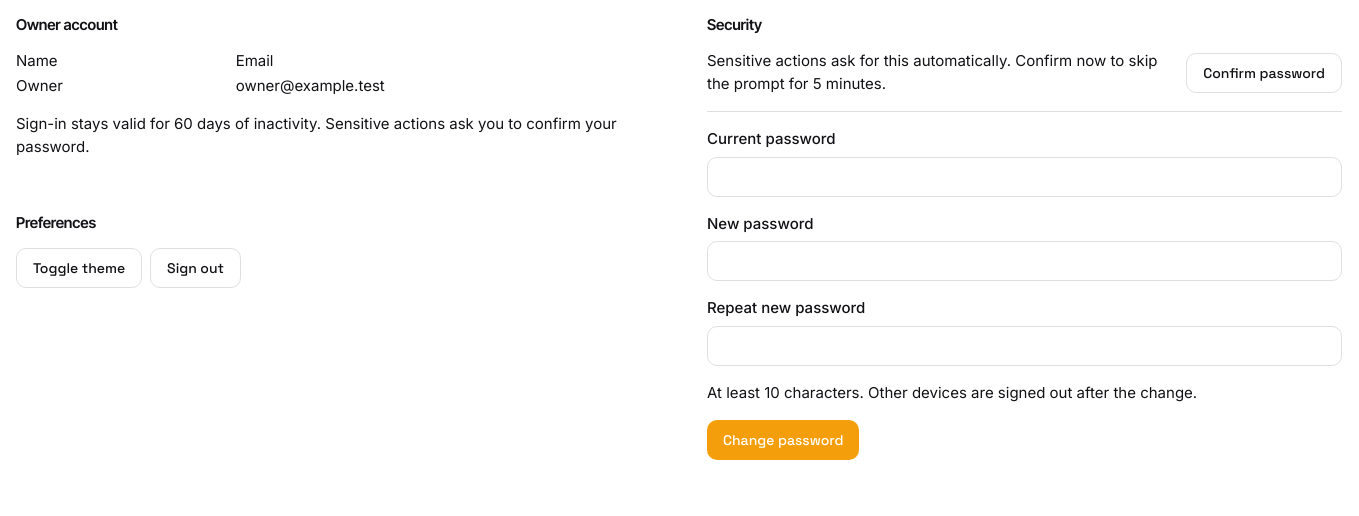
Test case: owner password settings › asks for confirmation and keeps the typed values when the server requires it
Expected: the heading "Security" is shown, top-left (707, 16), bottom-right (762, 34)
Type "old-password-1" into the password field labelled "Current password" at (1024, 176), box top-left (707, 156), bottom-right (1342, 196)
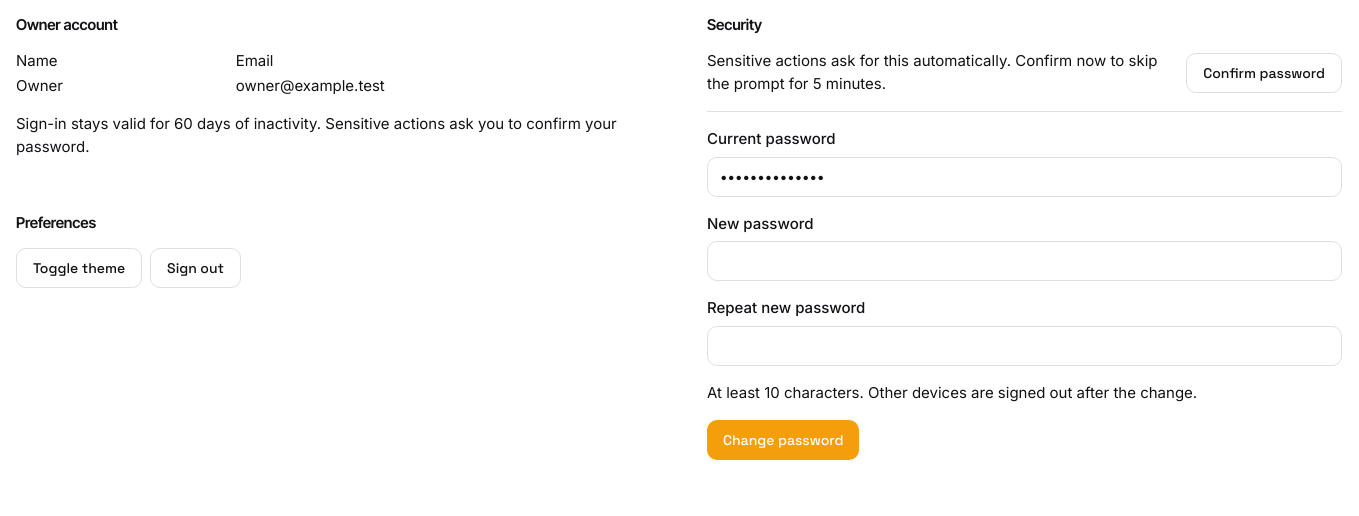
Type "new-password-1" into the password field labelled "New password" at (1024, 261), box top-left (707, 241), bottom-right (1342, 281)
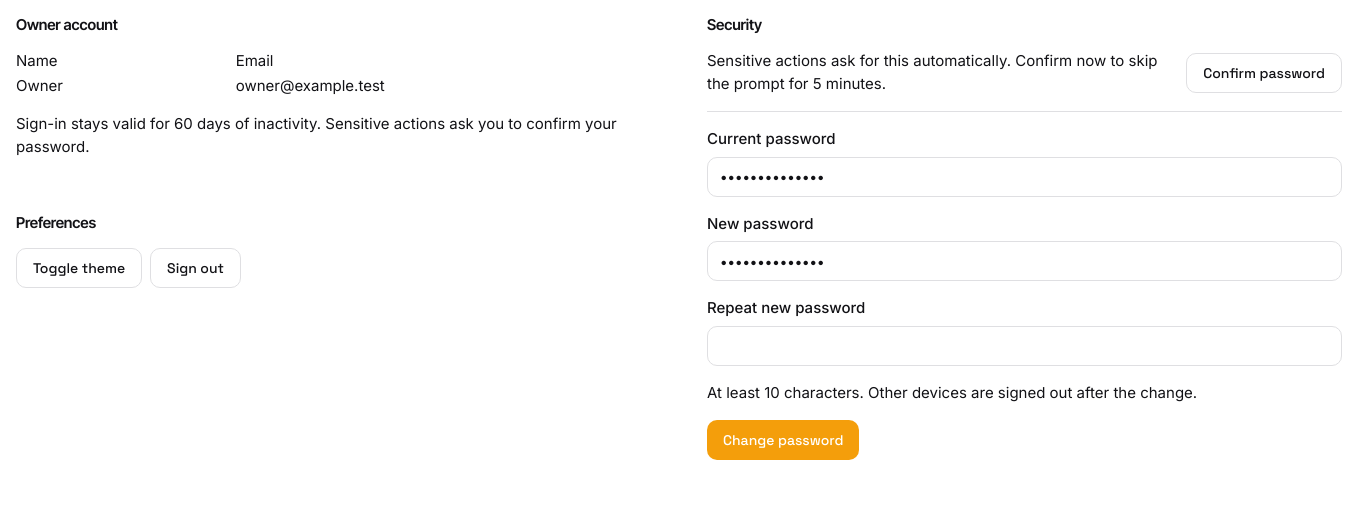
Type "new-password-1" into the password field labelled "Repeat new password" at (1024, 346), box top-left (707, 326), bottom-right (1342, 366)
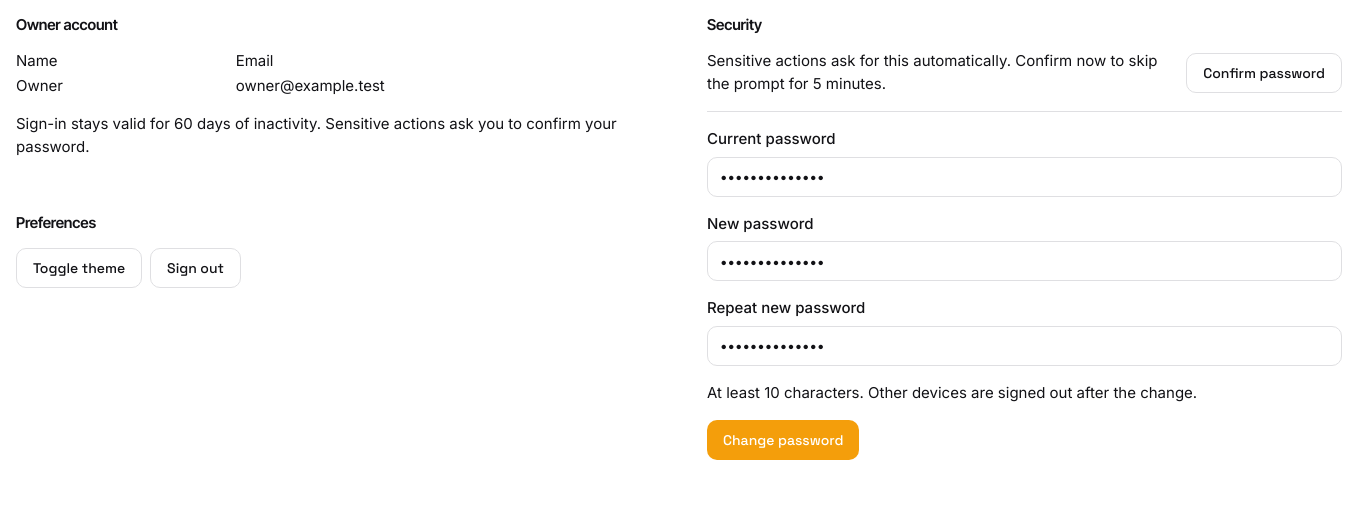
Click the button "Change password" at (783, 440), box top-left (707, 420), bottom-right (859, 460)
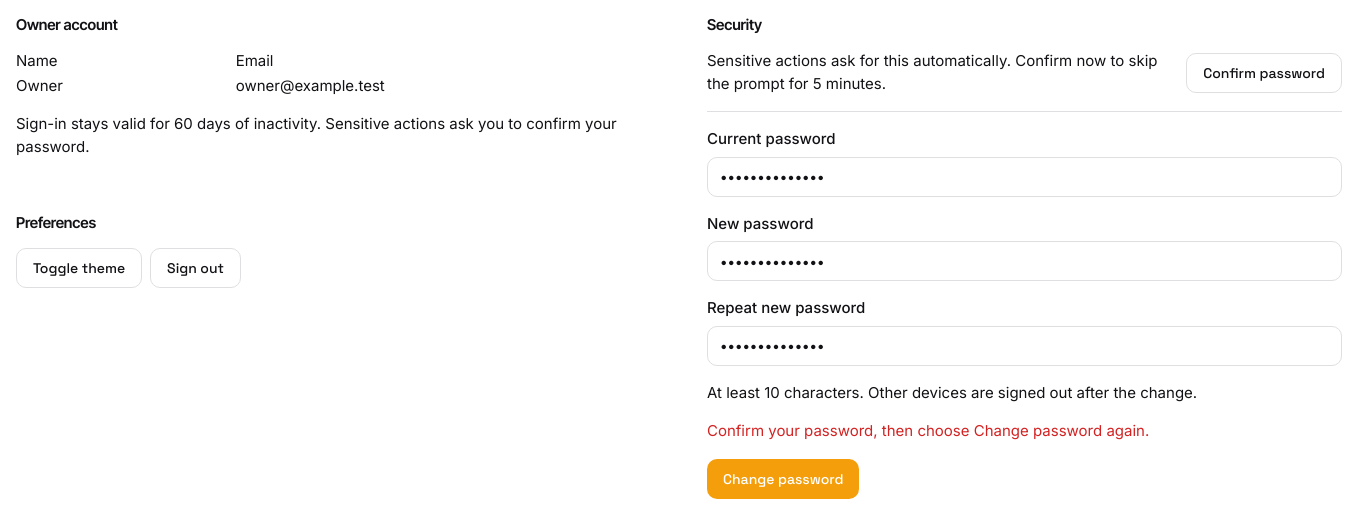
Expected: the message shows "Confirm your password", top-left (707, 421), bottom-right (1149, 440)
